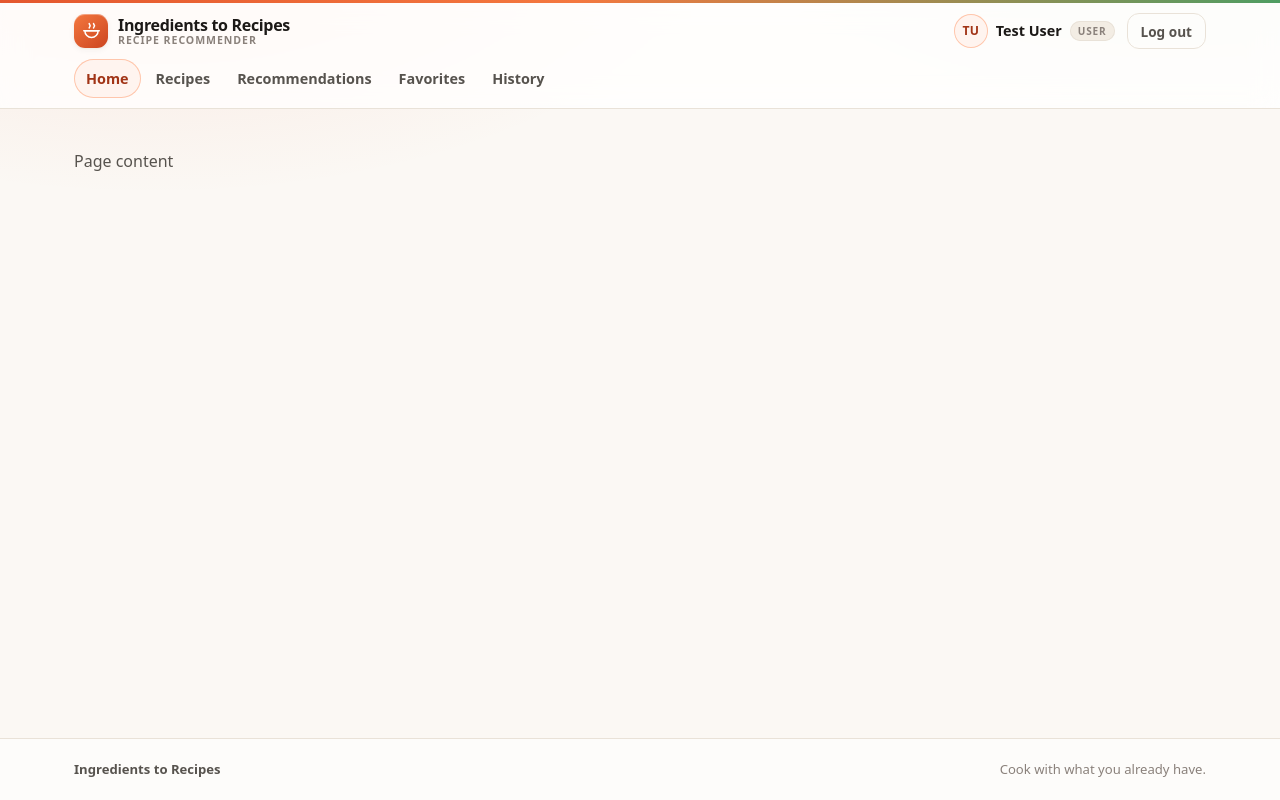
Test: AppShell › shows a safe error when logout fails
Click the button "Log out" at (1166, 31), box left=1126, top=13, right=1206, bottom=49
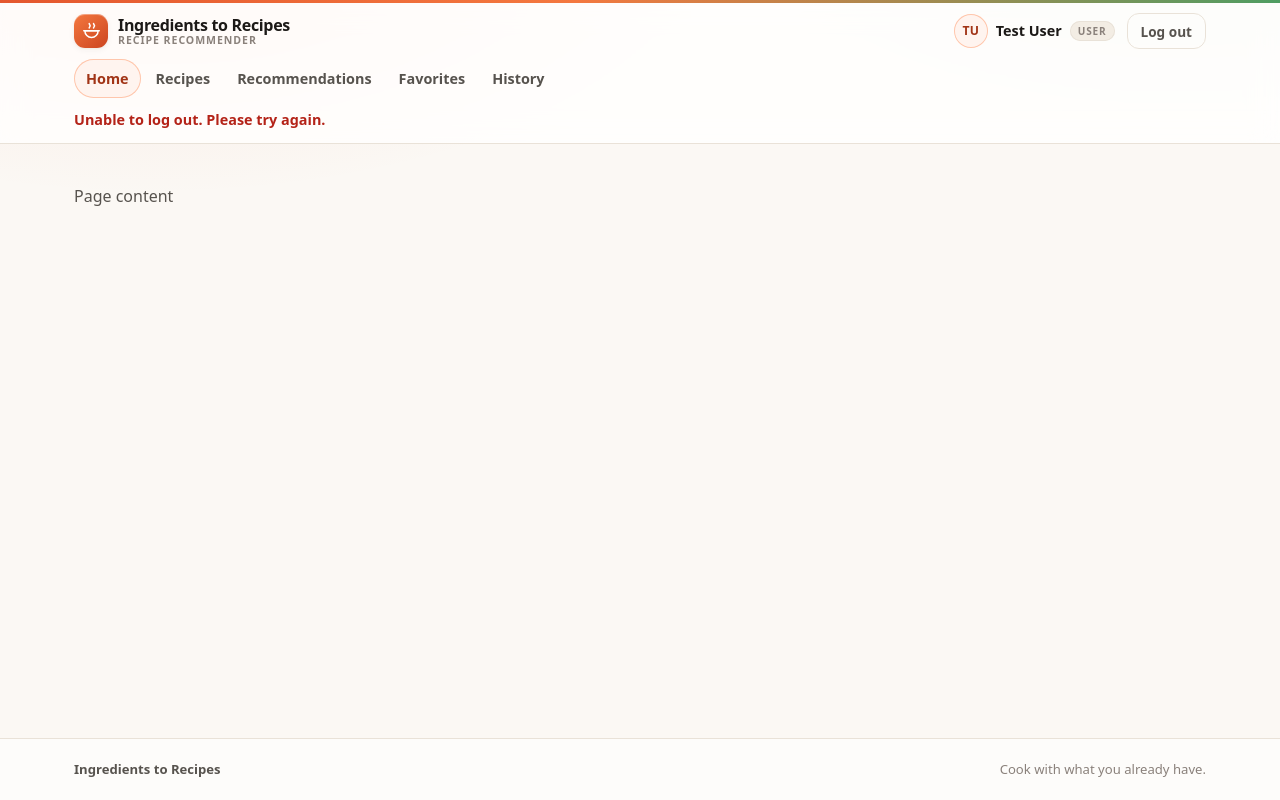
expect the text "Page content" is shown: met, box left=74, top=185, right=173, bottom=207
expect the message reads "Unable to log out. Please try again.": met, box left=74, top=110, right=325, bottom=129
